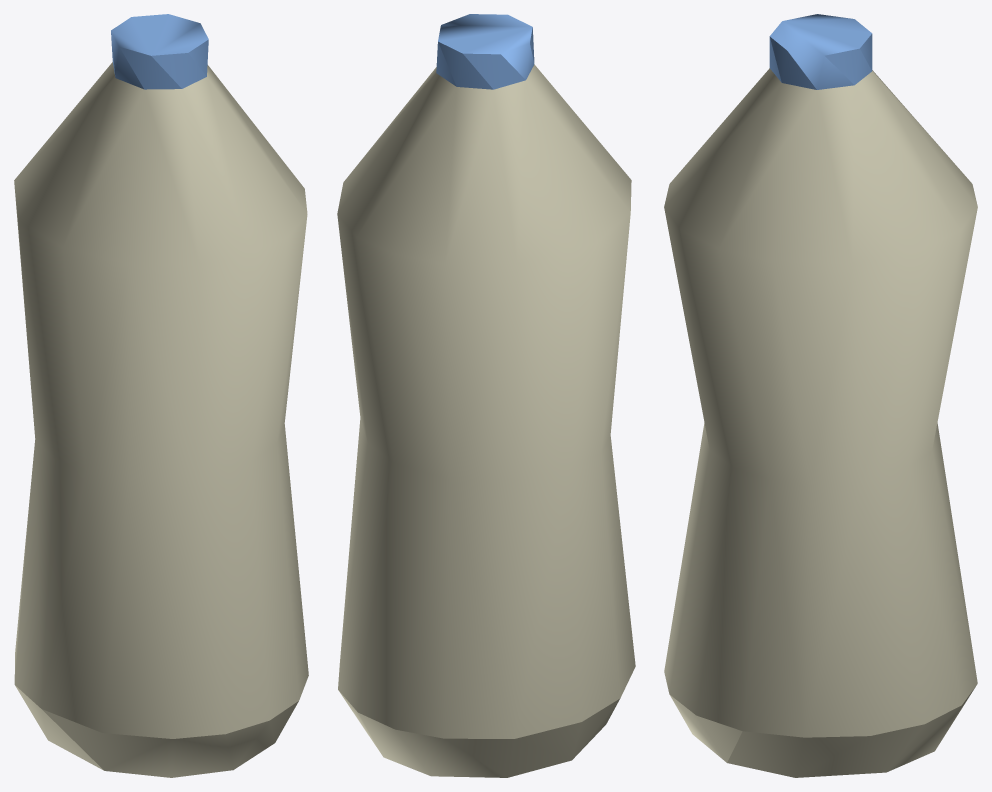
Rendered from Sunflower_Oil_Bottle_Empty.fbx.
The picture shows the model from 3 angles, left to right: view 1: azimuth 30°, elevation 25°; view 2: azimuth 150°, elevation 25°; view 3: azimuth 270°, elevation 25°; orthographic projection.
Parts seen in each view (by area): view 1: Lege fles; view 2: Lege fles; view 3: Lege fles.
Boxes of the visible parts, x1,y1,x2,y2 form: Lege fles: [14, 14, 308, 777]; Lege fles: [337, 14, 635, 777]; Lege fles: [664, 14, 977, 777].
Bounding box in the file's own units: 57.98 × 151 × 61.89.
